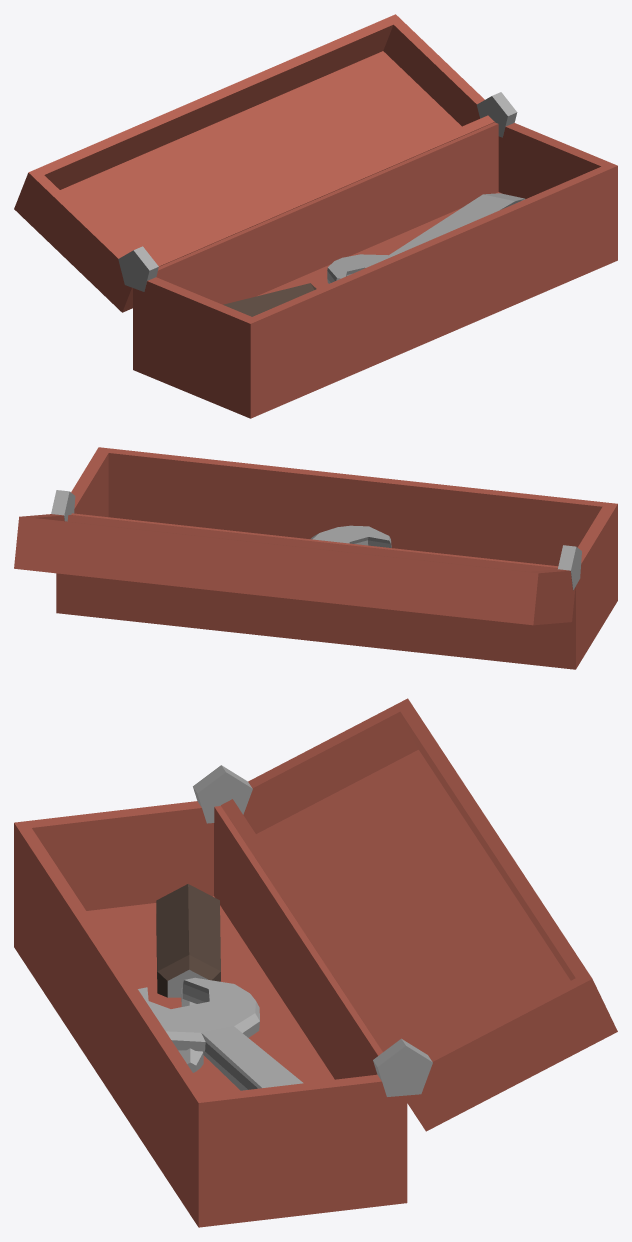
The model's file is Msh_Boite_A_Outils_Env.fbx.
3 renders of one model, top to bottom at view 1: azimuth 30°, elevation 25°; view 2: azimuth 150°, elevation 25°; view 3: azimuth 270°, elevation 25°, orthographic. The views are drawn at different scales.
Parts seen in each view (by area): view 1: Msh_Boite_A_Outils_Env; view 2: Msh_Boite_A_Outils_Env; view 3: Msh_Boite_A_Outils_Env.
Boxes of the visible parts, <box> form: Msh_Boite_A_Outils_Env: <box>14,14,617,418</box>; Msh_Boite_A_Outils_Env: <box>14,447,617,669</box>; Msh_Boite_A_Outils_Env: <box>14,698,617,1227</box>.
Size of the model in its own units: 8.21 by 6.35 by 2.35.
